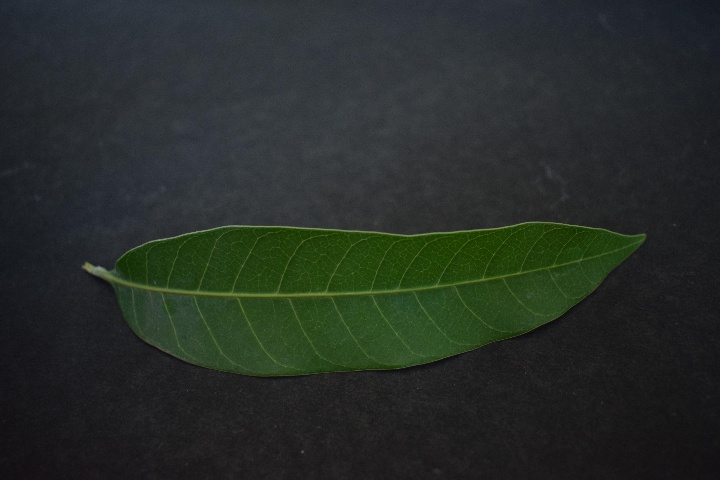healthy: (112, 215, 617, 374)
